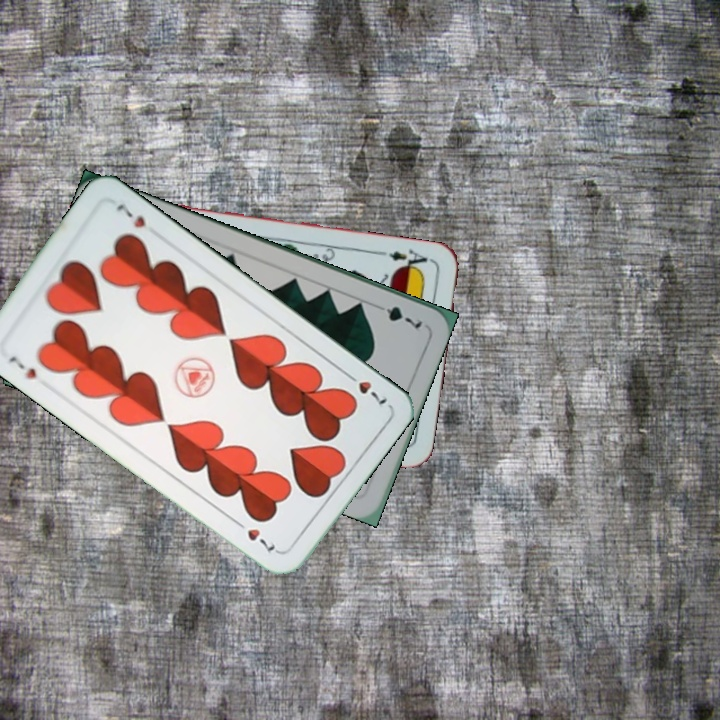EA: (376, 245, 435, 274)
G7: (370, 299, 425, 331)
H7: (340, 367, 390, 407), (4, 352, 39, 382)
